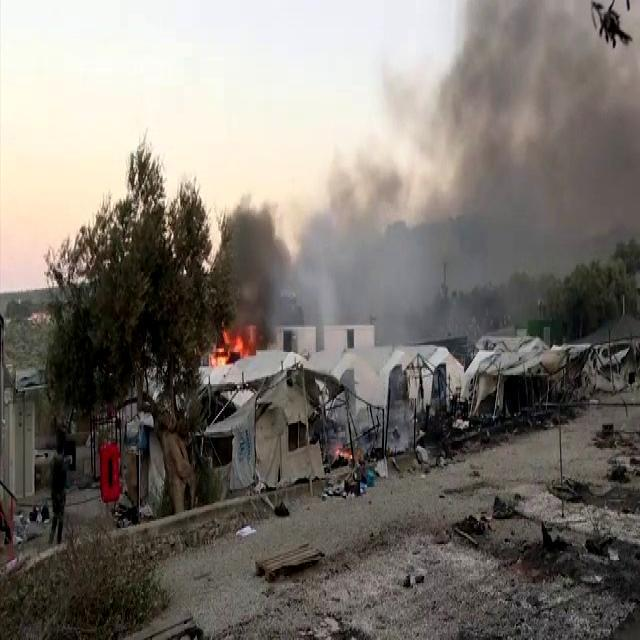Fire: (220, 319, 264, 367)
Smoke: (297, 0, 640, 375)
